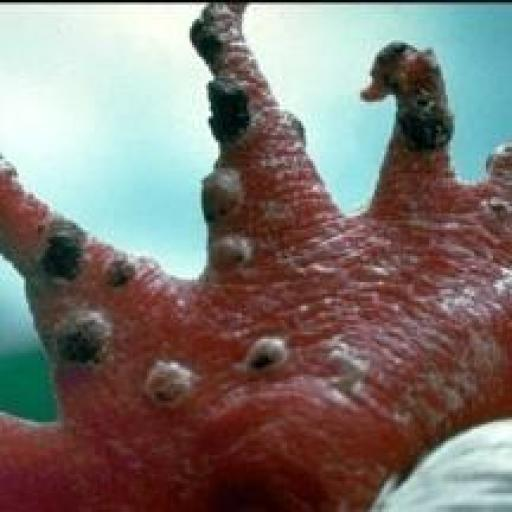disease: (165, 25, 278, 288), (352, 29, 458, 215), (43, 291, 120, 382), (234, 314, 301, 400), (139, 346, 203, 424), (38, 210, 93, 291), (102, 238, 149, 302)
